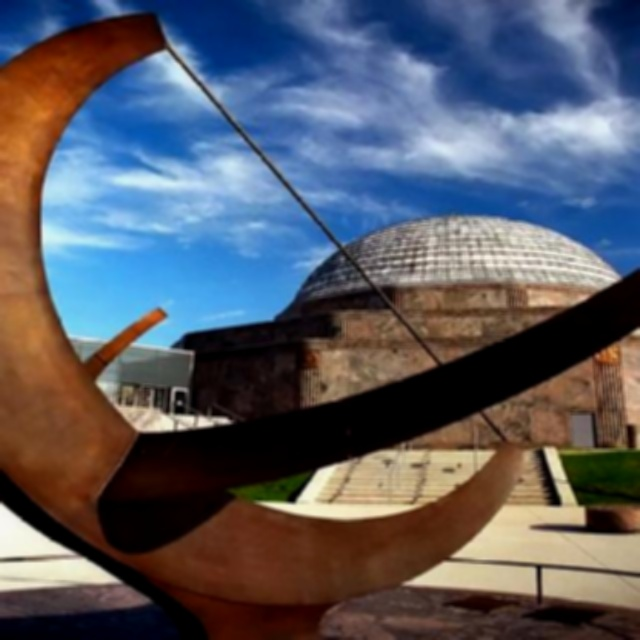stair: (314, 448, 560, 506), (161, 414, 241, 434)
